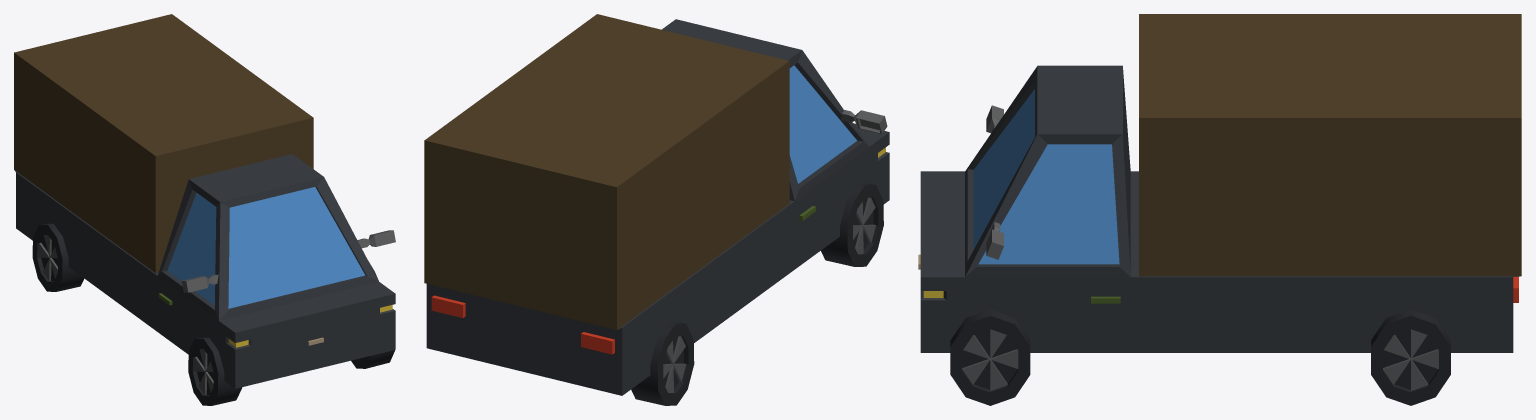
File: Truck_1.fbx
The picture shows the model from 3 angles, left to right: view 1: azimuth 30°, elevation 25°; view 2: azimuth 150°, elevation 25°; view 3: azimuth 270°, elevation 25°; orthographic projection. The views are drawn at different scales.
Parts seen in each view (by area): view 1: Truck_1; view 2: Truck_1; view 3: Truck_1.
Boxes of the visible parts, bbox=[...] form: Truck_1: bbox=[14, 14, 395, 405]; Truck_1: bbox=[424, 14, 889, 405]; Truck_1: bbox=[918, 14, 1521, 405].
Bounding box in the file's own units: 240 × 229 × 447.
